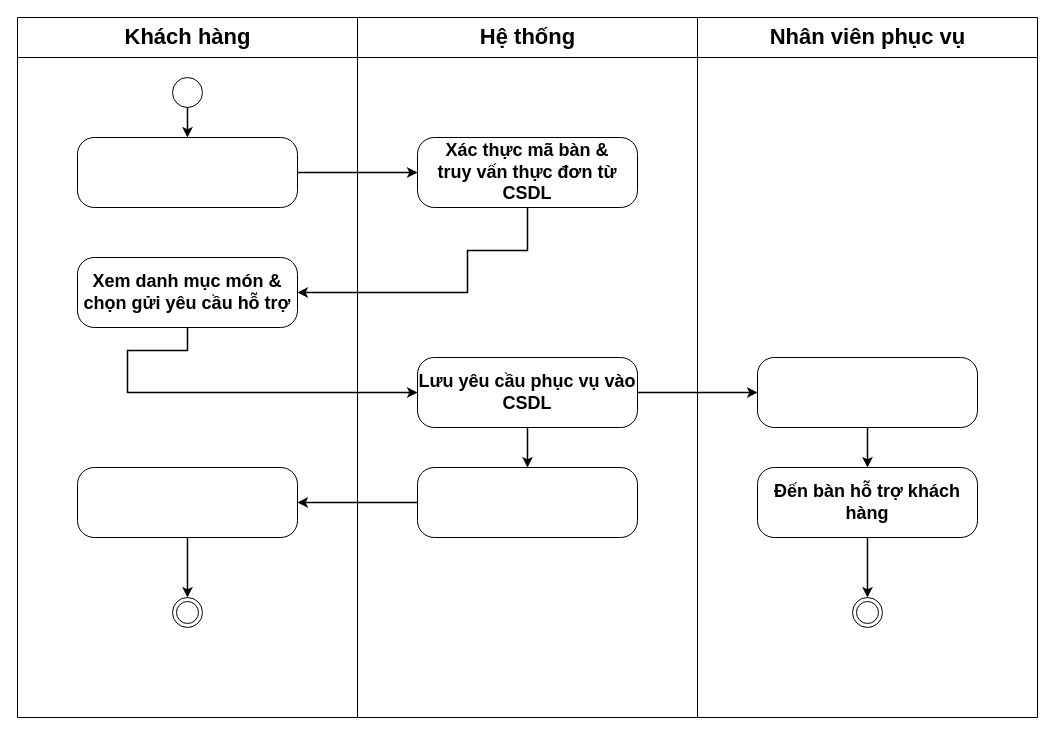
The diagram is 1055 pixels wide and 735 high, and some of its shapes have lost their labels. Each missing label, with the centre of its shape:
Nhận thông báo ghi nhận thành công: the point at 187,502
Nhận thông báo yêu cầu phục vụ: the point at 867,392
Phản hồi kết quả tiếp nhận: the point at 527,502
Quét mã QR tại bàn: the point at 187,172
